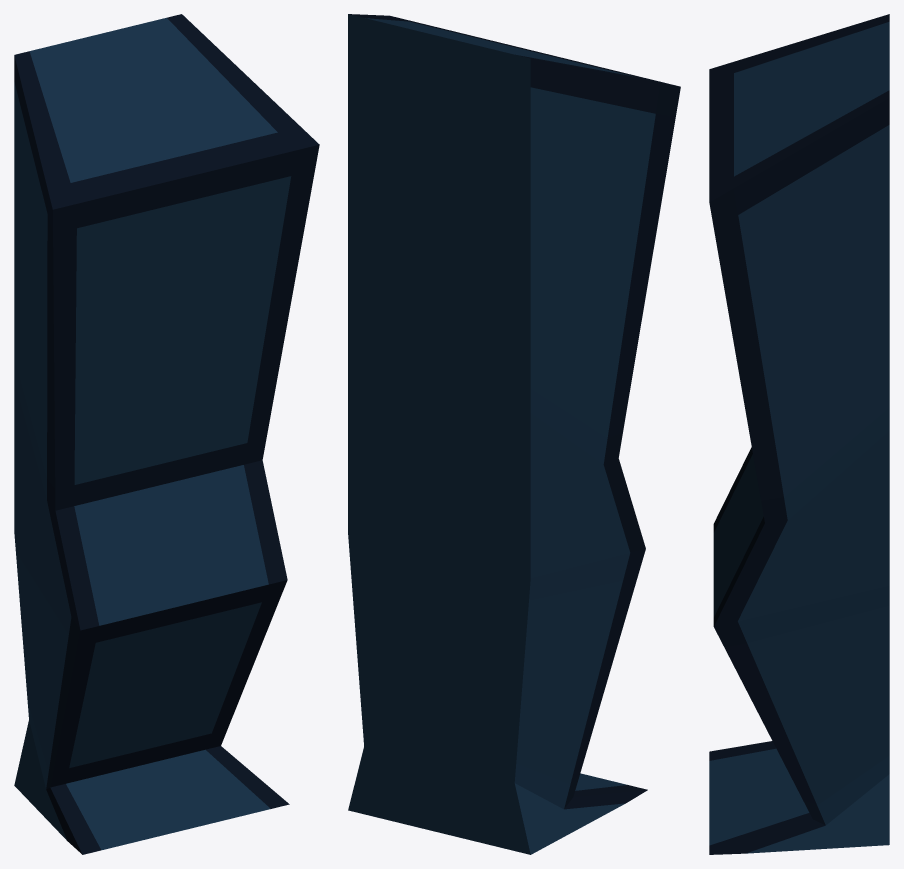
The picture shows the model from 3 angles, left to right: view 1: azimuth 30°, elevation 25°; view 2: azimuth 150°, elevation 25°; view 3: azimuth 270°, elevation 25°; orthographic projection. The views are drawn at different scales.
Visible parts, largest first — view 1: Box; view 2: Box; view 3: Box.
Part boxes in pixels (<box>): Box: <box>14,14,319,854</box>; Box: <box>348,14,680,854</box>; Box: <box>709,14,889,854</box>.
Bounding box in the file's own units: 1.02 × 2.67 × 0.5829.
1 material, 1 textured.
